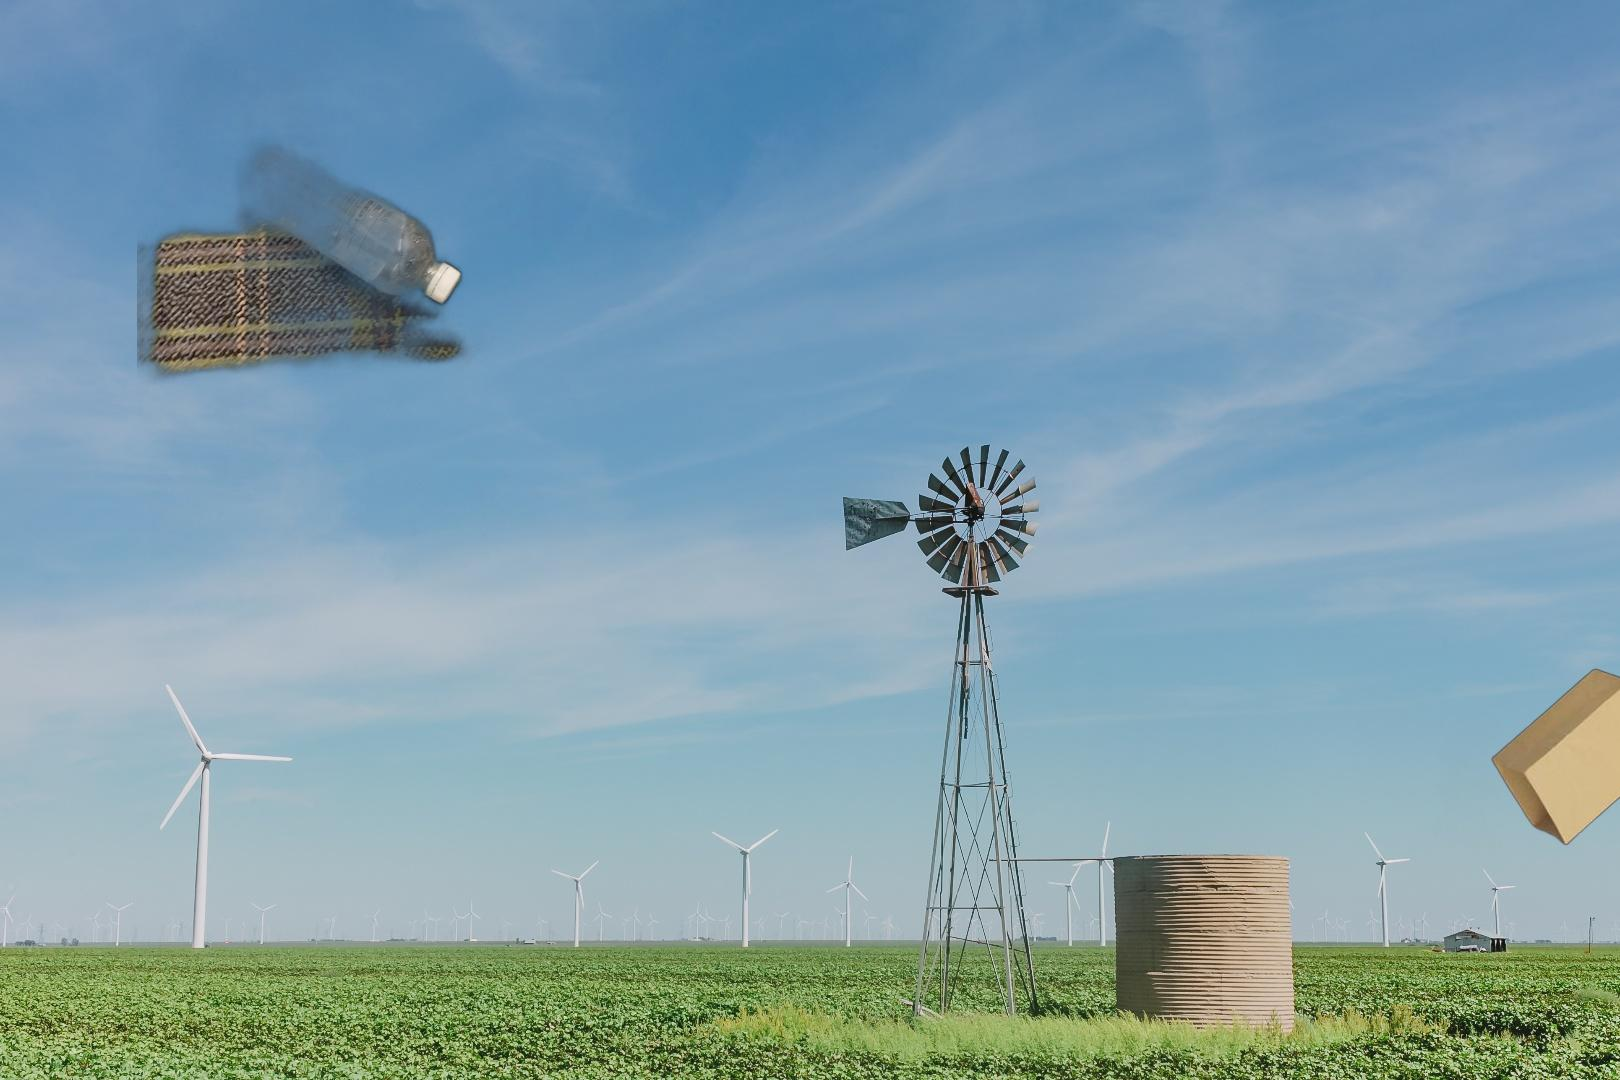paper-bag: (1434, 667, 1620, 855)
plastic-bottles: (137, 25, 620, 655)
